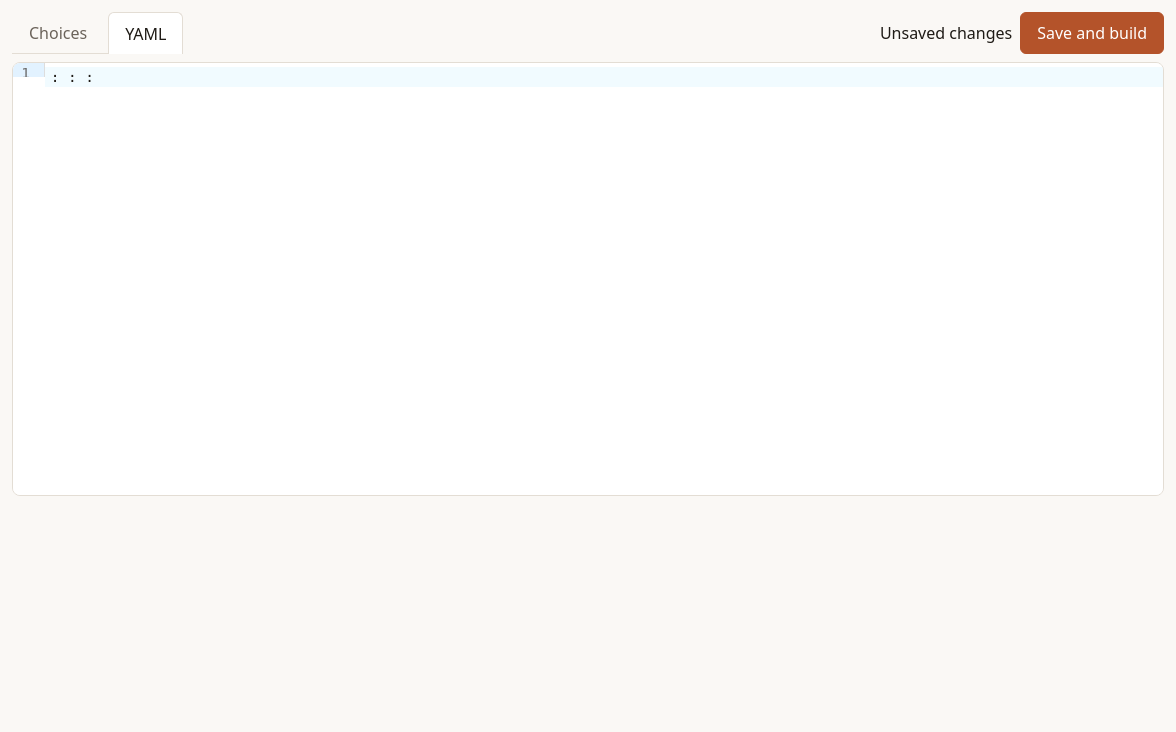
it: DesignEditor › says what went wrong when the check fails for another reason
Click the tab "Choices". click: (58, 32)
box: x1=12 y1=12 x2=104 y2=53
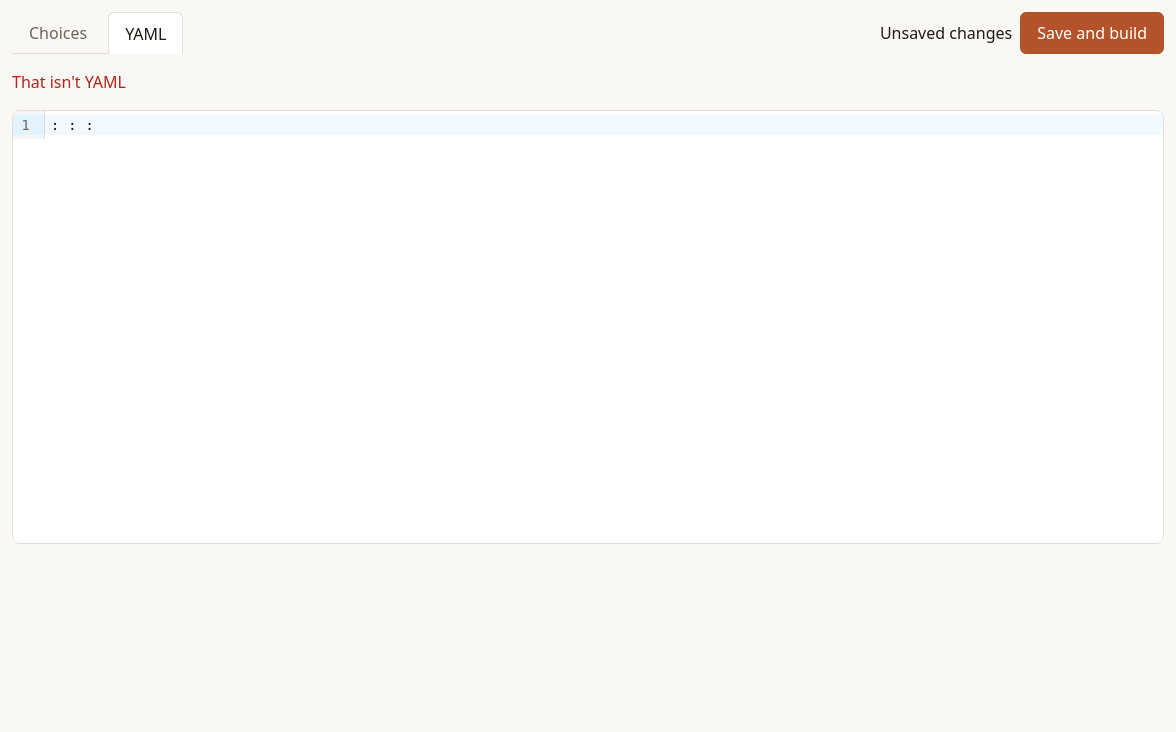
Check: the text "That isn't YAML" is shown, box x1=12 y1=71 x2=126 y2=93
Click the tab "Choices". click: (58, 32)
box: x1=12 y1=12 x2=104 y2=53
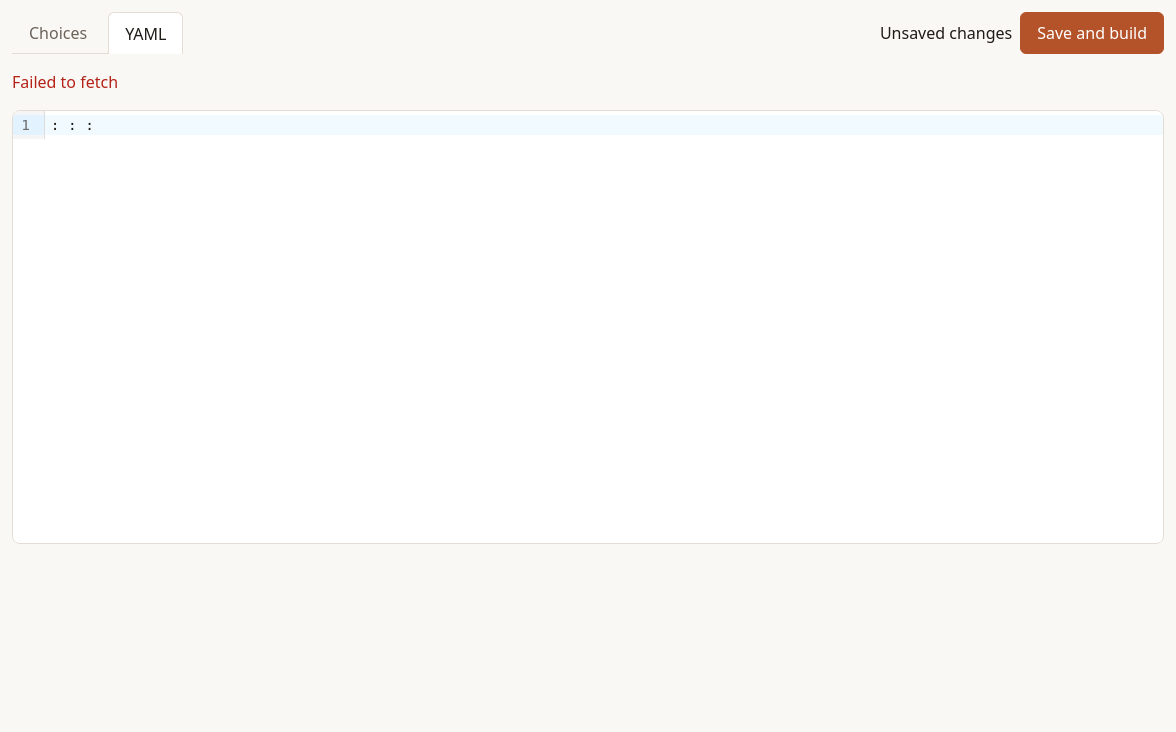
Check: the text "Failed to fetch" is shown, box x1=12 y1=71 x2=118 y2=93
Check: the text "That isn't YAML" is gone
